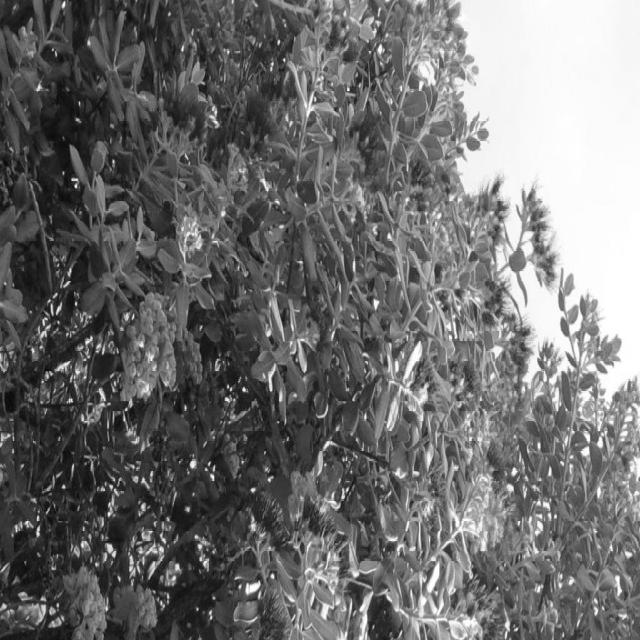Pohutukawa: (3, 8, 640, 640)
